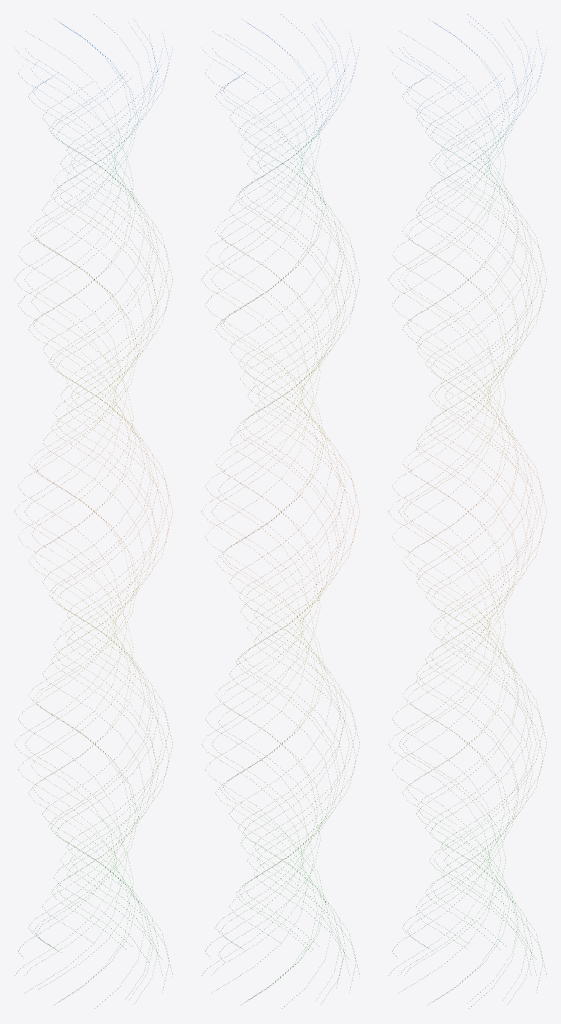
The model's file is SM_DarklineForSpline_3.FBX.
3 renders of one model, left to right at view 1: azimuth 30°, elevation 25°; view 2: azimuth 150°, elevation 25°; view 3: azimuth 270°, elevation 25°, orthographic.
Visible parts, largest first — view 1: SM_DarklineForSpline_3; view 2: SM_DarklineForSpline_3; view 3: SM_DarklineForSpline_3.
Part boxes in pixels (x1,y1,x2,y2): SM_DarklineForSpline_3: (14,14,172,1006); SM_DarklineForSpline_3: (201,14,359,1006); SM_DarklineForSpline_3: (388,14,546,1006).
Bounding box in the file's own units: 30.99 × 30.99 × 200.
